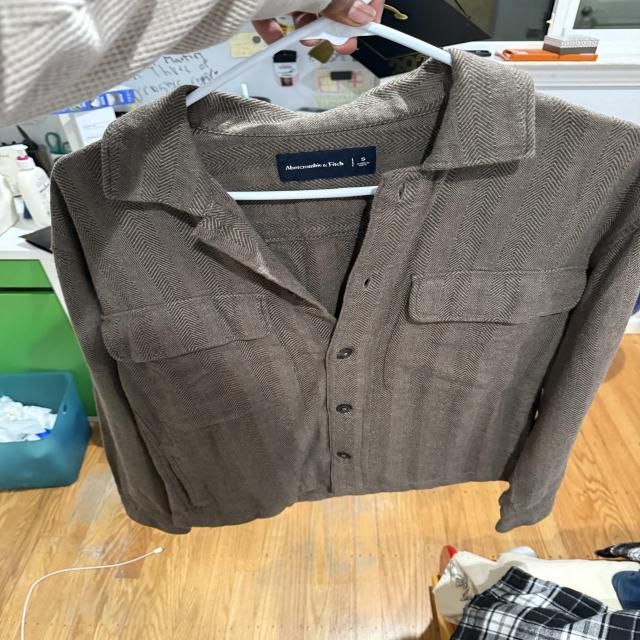back_tag: (275, 144, 375, 180)
